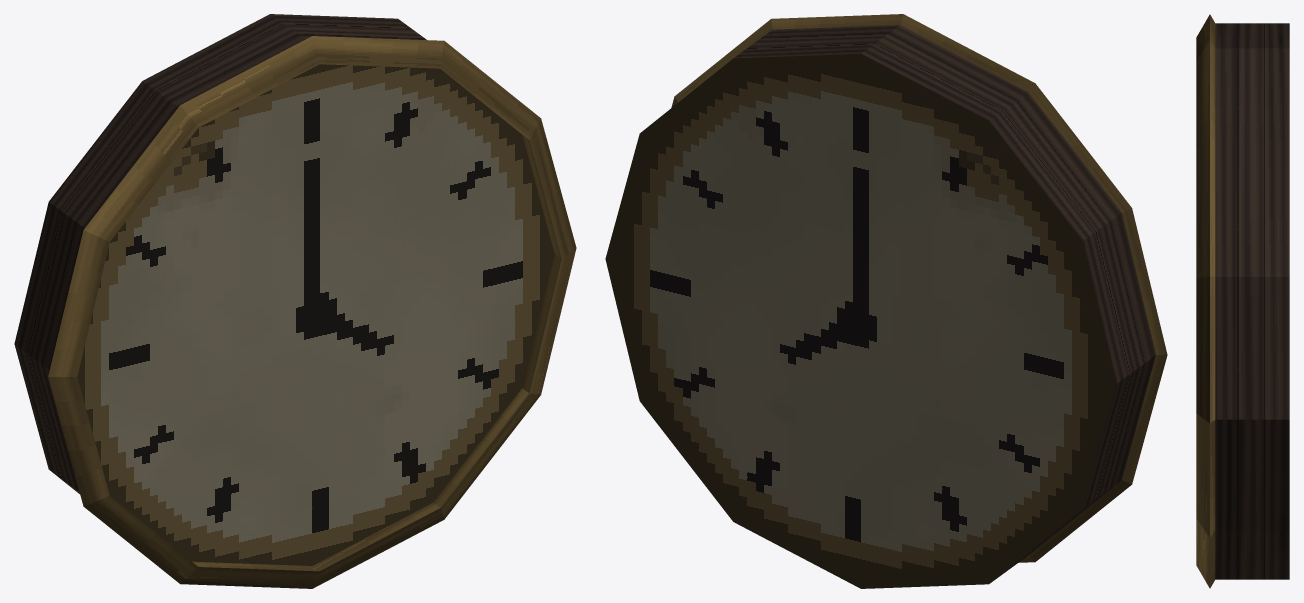
The model's file is PSXH_Clock_Wall.glb.
The picture shows the model from 3 angles, left to right: view 1: azimuth 30°, elevation 25°; view 2: azimuth 150°, elevation 25°; view 3: azimuth 270°, elevation 25°; orthographic projection. The views are drawn at different scales.
Visible parts, largest first — view 1: PSXH_Clock_Wall; view 2: PSXH_Clock_Wall; view 3: PSXH_Clock_Wall.
Boxes of the visible parts, left/top/right/bottom form: PSXH_Clock_Wall: left=14, top=14, right=576, bottom=588; PSXH_Clock_Wall: left=605, top=14, right=1167, bottom=588; PSXH_Clock_Wall: left=1196, top=14, right=1289, bottom=588.
Bounding box in the file's own units: 0.434 × 0.434 × 0.0704.
1 material, 1 textured.
